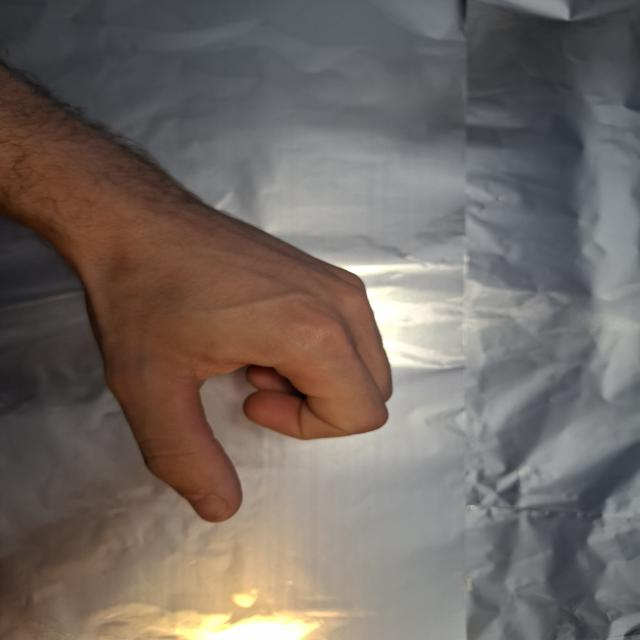glove_off: (50, 200, 398, 526)
